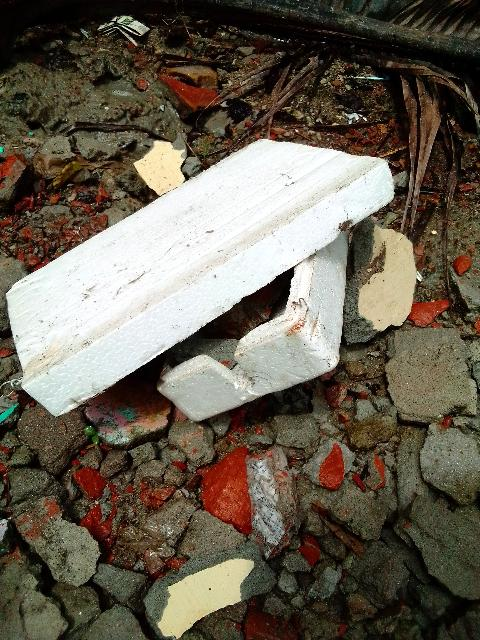cocksheet: (9, 133, 408, 424)
